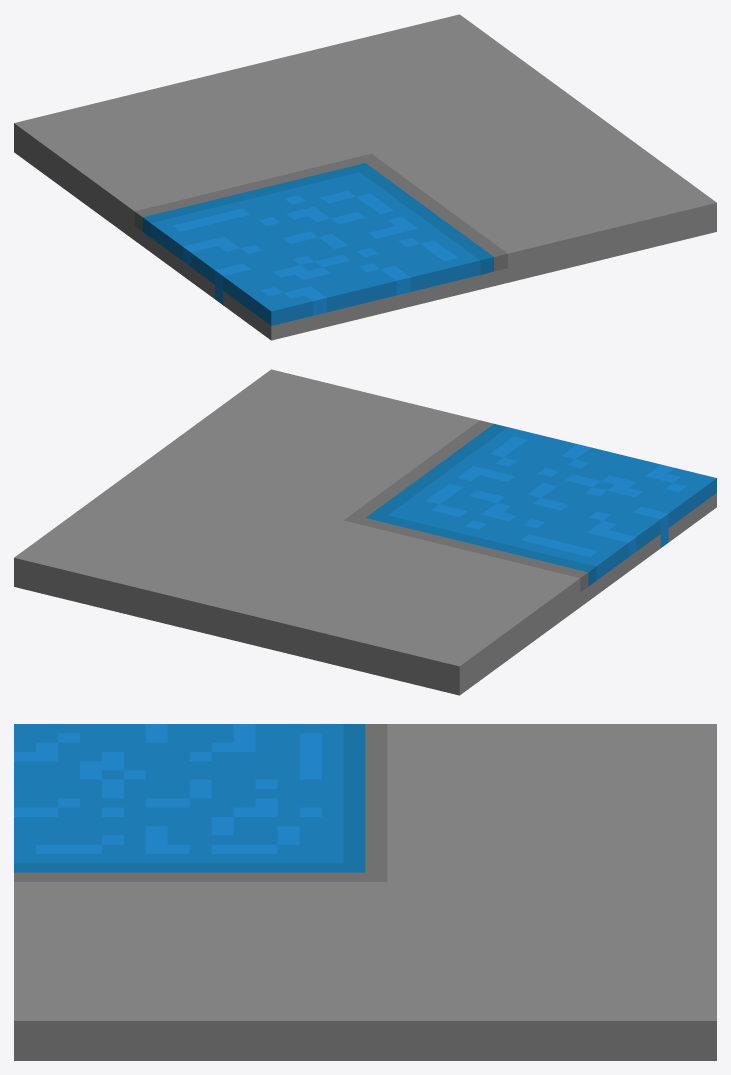
File: city-water-edgy-edge-inner-4.gltf
3 views of the same model, one above another, from view 1: azimuth 30°, elevation 25°; view 2: azimuth 150°, elevation 25°; view 3: azimuth 270°, elevation 25° (orthographic). The views are drawn at different scales.
Parts seen in each view (by area): view 1: city-water-edgy-edge-inner-4_model; view 2: city-water-edgy-edge-inner-4_model; view 3: city-water-edgy-edge-inner-4_model.
Part boxes in pixels (x1,y1,x2,y2): city-water-edgy-edge-inner-4_model: [14, 14, 716, 340]; city-water-edgy-edge-inner-4_model: [14, 369, 716, 695]; city-water-edgy-edge-inner-4_model: [14, 724, 716, 1060].
Size of the model in its own units: 3.2 by 0.2 by 3.2.
Materials: 1 (1 with a texture image).
